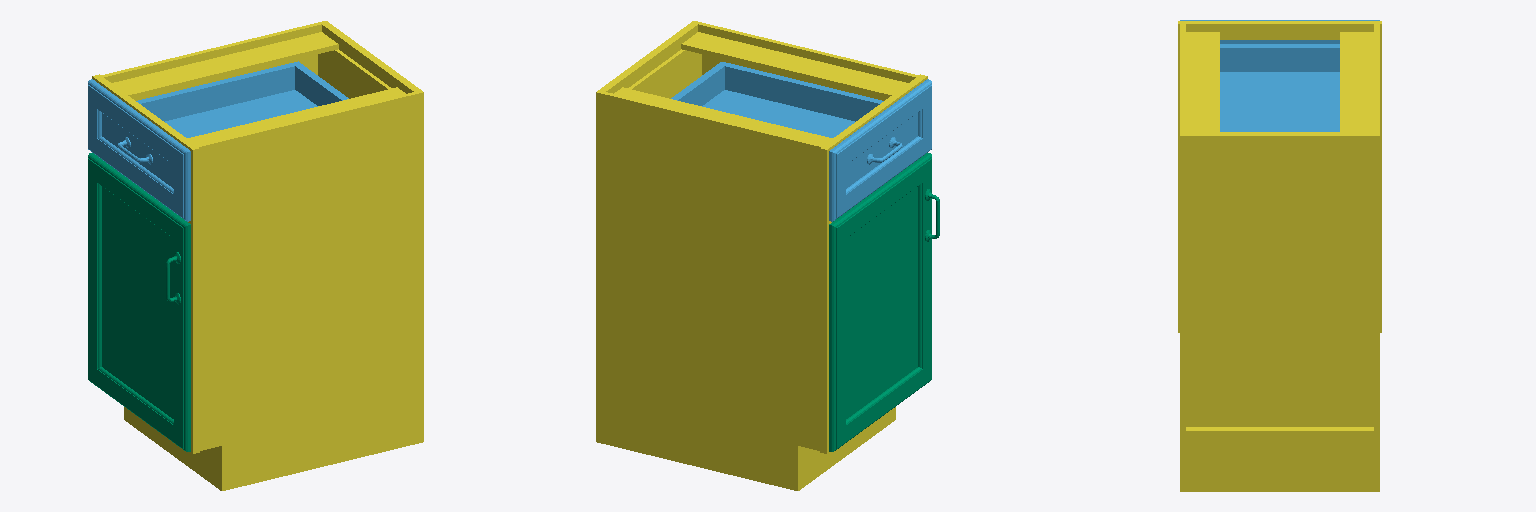
The robot description file, URDF, robot "partnet_15de6a77af2b4fccc59350d819542ec7":
<?xml version="1.0" ?>
<robot name="partnet_15de6a77af2b4fccc59350d819542ec7">
	<link name="base"/>
	<link name="link_0">
		<visual name="drawer_front-15">
			<origin xyz="0.001639828738790594 -0.49313240951971077 0.5140569806098938"/>
			<geometry>
				<mesh filename="textured_objs/original-43.obj"/>
			</geometry>
		</visual>
		<visual name="drawer_front-15">
			<origin xyz="0.001639828738790594 -0.49313240951971077 0.5140569806098938"/>
			<geometry>
				<mesh filename="textured_objs/original-26.obj"/>
			</geometry>
		</visual>
		<visual name="drawer_side-16">
			<origin xyz="0.001639828738790594 -0.49313240951971077 0.5140569806098938"/>
			<geometry>
				<mesh filename="textured_objs/original-30.obj"/>
			</geometry>
		</visual>
		<visual name="drawer_side-17">
			<origin xyz="0.001639828738790594 -0.49313240951971077 0.5140569806098938"/>
			<geometry>
				<mesh filename="textured_objs/original-25.obj"/>
			</geometry>
		</visual>
		<visual name="drawer_back-18">
			<origin xyz="0.001639828738790594 -0.49313240951971077 0.5140569806098938"/>
			<geometry>
				<mesh filename="textured_objs/original-31.obj"/>
			</geometry>
		</visual>
		<visual name="drawer_bottom-19">
			<origin xyz="0.001639828738790594 -0.49313240951971077 0.5140569806098938"/>
			<geometry>
				<mesh filename="textured_objs/original-28.obj"/>
			</geometry>
		</visual>
		<visual name="drawer_bottom-19">
			<origin xyz="0.001639828738790594 -0.49313240951971077 0.5140569806098938"/>
			<geometry>
				<mesh filename="textured_objs/original-29.obj"/>
			</geometry>
		</visual>
		<visual name="drawer_front-30">
			<origin xyz="0.001639828738790594 -0.49313240951971077 0.5140569806098938"/>
			<geometry>
				<mesh filename="textured_objs/original-41.obj"/>
			</geometry>
		</visual>
		<visual name="drawer_front-30">
			<origin xyz="0.001639828738790594 -0.49313240951971077 0.5140569806098938"/>
			<geometry>
				<mesh filename="textured_objs/original-37.obj"/>
			</geometry>
		</visual>
		<visual name="drawer_front-30">
			<origin xyz="0.001639828738790594 -0.49313240951971077 0.5140569806098938"/>
			<geometry>
				<mesh filename="textured_objs/original-35.obj"/>
			</geometry>
		</visual>
		<visual name="drawer_front-30">
			<origin xyz="0.001639828738790594 -0.49313240951971077 0.5140569806098938"/>
			<geometry>
				<mesh filename="textured_objs/original-38.obj"/>
			</geometry>
		</visual>
		<visual name="drawer_front-30">
			<origin xyz="0.001639828738790594 -0.49313240951971077 0.5140569806098938"/>
			<geometry>
				<mesh filename="textured_objs/original-40.obj"/>
			</geometry>
		</visual>
		<visual name="drawer_front-30">
			<origin xyz="0.001639828738790594 -0.49313240951971077 0.5140569806098938"/>
			<geometry>
				<mesh filename="textured_objs/original-39.obj"/>
			</geometry>
		</visual>
		<visual name="drawer_front-30">
			<origin xyz="0.001639828738790594 -0.49313240951971077 0.5140569806098938"/>
			<geometry>
				<mesh filename="textured_objs/original-44.obj"/>
			</geometry>
		</visual>
		<visual name="drawer_front-30">
			<origin xyz="0.001639828738790594 -0.49313240951971077 0.5140569806098938"/>
			<geometry>
				<mesh filename="textured_objs/original-36.obj"/>
			</geometry>
		</visual>
		<visual name="drawer_front-30">
			<origin xyz="0.001639828738790594 -0.49313240951971077 0.5140569806098938"/>
			<geometry>
				<mesh filename="textured_objs/original-34.obj"/>
			</geometry>
		</visual>
		<visual name="handle-6">
			<origin xyz="0.001639828738790594 -0.49313240951971077 0.5140569806098938"/>
			<geometry>
				<mesh filename="textured_objs/original-45.obj"/>
			</geometry>
		</visual>
		<visual name="other_leaf-21">
			<origin xyz="0.001639828738790594 -0.49313240951971077 0.5140569806098938"/>
			<geometry>
				<mesh filename="textured_objs/original-32.obj"/>
			</geometry>
		</visual>
		<collision>
			<origin xyz="0.001639828738790594 -0.49313240951971077 0.5140569806098938"/>
			<geometry>
				<mesh filename="textured_objs/original-43.obj"/>
			</geometry>
		</collision>
		<collision>
			<origin xyz="0.001639828738790594 -0.49313240951971077 0.5140569806098938"/>
			<geometry>
				<mesh filename="textured_objs/original-26.obj"/>
			</geometry>
		</collision>
		<collision>
			<origin xyz="0.001639828738790594 -0.49313240951971077 0.5140569806098938"/>
			<geometry>
				<mesh filename="textured_objs/original-30.obj"/>
			</geometry>
		</collision>
		<collision>
			<origin xyz="0.001639828738790594 -0.49313240951971077 0.5140569806098938"/>
			<geometry>
				<mesh filename="textured_objs/original-25.obj"/>
			</geometry>
		</collision>
		<collision>
			<origin xyz="0.001639828738790594 -0.49313240951971077 0.5140569806098938"/>
			<geometry>
				<mesh filename="textured_objs/original-31.obj"/>
			</geometry>
		</collision>
		<collision>
			<origin xyz="0.001639828738790594 -0.49313240951971077 0.5140569806098938"/>
			<geometry>
				<mesh filename="textured_objs/original-28.obj"/>
			</geometry>
		</collision>
		<collision>
			<origin xyz="0.001639828738790594 -0.49313240951971077 0.5140569806098938"/>
			<geometry>
				<mesh filename="textured_objs/original-29.obj"/>
			</geometry>
		</collision>
		<collision>
			<origin xyz="0.001639828738790594 -0.49313240951971077 0.5140569806098938"/>
			<geometry>
				<mesh filename="textured_objs/original-41.obj"/>
			</geometry>
		</collision>
		<collision>
			<origin xyz="0.001639828738790594 -0.49313240951971077 0.5140569806098938"/>
			<geometry>
				<mesh filename="textured_objs/original-37.obj"/>
			</geometry>
		</collision>
		<collision>
			<origin xyz="0.001639828738790594 -0.49313240951971077 0.5140569806098938"/>
			<geometry>
				<mesh filename="textured_objs/original-35.obj"/>
			</geometry>
		</collision>
		<collision>
			<origin xyz="0.001639828738790594 -0.49313240951971077 0.5140569806098938"/>
			<geometry>
				<mesh filename="textured_objs/original-38.obj"/>
			</geometry>
		</collision>
		<collision>
			<origin xyz="0.001639828738790594 -0.49313240951971077 0.5140569806098938"/>
			<geometry>
				<mesh filename="textured_objs/original-40.obj"/>
			</geometry>
		</collision>
		<collision>
			<origin xyz="0.001639828738790594 -0.49313240951971077 0.5140569806098938"/>
			<geometry>
				<mesh filename="textured_objs/original-39.obj"/>
			</geometry>
		</collision>
		<collision>
			<origin xyz="0.001639828738790594 -0.49313240951971077 0.5140569806098938"/>
			<geometry>
				<mesh filename="textured_objs/original-44.obj"/>
			</geometry>
		</collision>
		<collision>
			<origin xyz="0.001639828738790594 -0.49313240951971077 0.5140569806098938"/>
			<geometry>
				<mesh filename="textured_objs/original-36.obj"/>
			</geometry>
		</collision>
		<collision>
			<origin xyz="0.001639828738790594 -0.49313240951971077 0.5140569806098938"/>
			<geometry>
				<mesh filename="textured_objs/original-34.obj"/>
			</geometry>
		</collision>
		<collision>
			<origin xyz="0.001639828738790594 -0.49313240951971077 0.5140569806098938"/>
			<geometry>
				<mesh filename="textured_objs/original-45.obj"/>
			</geometry>
		</collision>
		<collision>
			<origin xyz="0.001639828738790594 -0.49313240951971077 0.5140569806098938"/>
			<geometry>
				<mesh filename="textured_objs/original-32.obj"/>
			</geometry>
		</collision>
	</link>
	<joint name="joint_0" type="prismatic">
		<origin xyz="-0.001639828738790594 0.49313240951971077 -0.5140569806098938"/>
		<axis xyz="0 0 1"/>
		<child link="link_0"/>
		<parent link="link_2"/>
		<limit lower="0" upper="0.7599999999999998"/>
	</joint>
	<link name="link_1">
		<visual name="cabinet_door_surface-27">
			<origin xyz="0.3723655951040667 0.6156229972839355 -0.4921912950706839"/>
			<geometry>
				<mesh filename="textured_objs/original-53.obj"/>
			</geometry>
		</visual>
		<visual name="cabinet_door_surface-27">
			<origin xyz="0.3723655951040667 0.6156229972839355 -0.4921912950706839"/>
			<geometry>
				<mesh filename="textured_objs/original-56.obj"/>
			</geometry>
		</visual>
		<visual name="cabinet_door_surface-27">
			<origin xyz="0.3723655951040667 0.6156229972839355 -0.4921912950706839"/>
			<geometry>
				<mesh filename="textured_objs/original-54.obj"/>
			</geometry>
		</visual>
		<visual name="cabinet_door_surface-27">
			<origin xyz="0.3723655951040667 0.6156229972839355 -0.4921912950706839"/>
			<geometry>
				<mesh filename="textured_objs/original-47.obj"/>
			</geometry>
		</visual>
		<visual name="cabinet_door_surface-27">
			<origin xyz="0.3723655951040667 0.6156229972839355 -0.4921912950706839"/>
			<geometry>
				<mesh filename="textured_objs/original-48.obj"/>
			</geometry>
		</visual>
		<visual name="cabinet_door_surface-27">
			<origin xyz="0.3723655951040667 0.6156229972839355 -0.4921912950706839"/>
			<geometry>
				<mesh filename="textured_objs/original-57.obj"/>
			</geometry>
		</visual>
		<visual name="cabinet_door_surface-27">
			<origin xyz="0.3723655951040667 0.6156229972839355 -0.4921912950706839"/>
			<geometry>
				<mesh filename="textured_objs/original-55.obj"/>
			</geometry>
		</visual>
		<visual name="cabinet_door_surface-27">
			<origin xyz="0.3723655951040667 0.6156229972839355 -0.4921912950706839"/>
			<geometry>
				<mesh filename="textured_objs/original-49.obj"/>
			</geometry>
		</visual>
		<visual name="cabinet_door_surface-27">
			<origin xyz="0.3723655951040667 0.6156229972839355 -0.4921912950706839"/>
			<geometry>
				<mesh filename="textured_objs/original-50.obj"/>
			</geometry>
		</visual>
		<visual name="cabinet_door_surface-27">
			<origin xyz="0.3723655951040667 0.6156229972839355 -0.4921912950706839"/>
			<geometry>
				<mesh filename="textured_objs/original-52.obj"/>
			</geometry>
		</visual>
		<visual name="handle-28">
			<origin xyz="0.3723655951040667 0.6156229972839355 -0.4921912950706839"/>
			<geometry>
				<mesh filename="textured_objs/original-58.obj"/>
			</geometry>
		</visual>
		<collision>
			<origin xyz="0.3723655951040667 0.6156229972839355 -0.4921912950706839"/>
			<geometry>
				<mesh filename="textured_objs/original-53.obj"/>
			</geometry>
		</collision>
		<collision>
			<origin xyz="0.3723655951040667 0.6156229972839355 -0.4921912950706839"/>
			<geometry>
				<mesh filename="textured_objs/original-56.obj"/>
			</geometry>
		</collision>
		<collision>
			<origin xyz="0.3723655951040667 0.6156229972839355 -0.4921912950706839"/>
			<geometry>
				<mesh filename="textured_objs/original-54.obj"/>
			</geometry>
		</collision>
		<collision>
			<origin xyz="0.3723655951040667 0.6156229972839355 -0.4921912950706839"/>
			<geometry>
				<mesh filename="textured_objs/original-47.obj"/>
			</geometry>
		</collision>
		<collision>
			<origin xyz="0.3723655951040667 0.6156229972839355 -0.4921912950706839"/>
			<geometry>
				<mesh filename="textured_objs/original-48.obj"/>
			</geometry>
		</collision>
		<collision>
			<origin xyz="0.3723655951040667 0.6156229972839355 -0.4921912950706839"/>
			<geometry>
				<mesh filename="textured_objs/original-57.obj"/>
			</geometry>
		</collision>
		<collision>
			<origin xyz="0.3723655951040667 0.6156229972839355 -0.4921912950706839"/>
			<geometry>
				<mesh filename="textured_objs/original-55.obj"/>
			</geometry>
		</collision>
		<collision>
			<origin xyz="0.3723655951040667 0.6156229972839355 -0.4921912950706839"/>
			<geometry>
				<mesh filename="textured_objs/original-49.obj"/>
			</geometry>
		</collision>
		<collision>
			<origin xyz="0.3723655951040667 0.6156229972839355 -0.4921912950706839"/>
			<geometry>
				<mesh filename="textured_objs/original-50.obj"/>
			</geometry>
		</collision>
		<collision>
			<origin xyz="0.3723655951040667 0.6156229972839355 -0.4921912950706839"/>
			<geometry>
				<mesh filename="textured_objs/original-52.obj"/>
			</geometry>
		</collision>
		<collision>
			<origin xyz="0.3723655951040667 0.6156229972839355 -0.4921912950706839"/>
			<geometry>
				<mesh filename="textured_objs/original-58.obj"/>
			</geometry>
		</collision>
	</link>
	<joint name="joint_1" type="revolute">
		<origin xyz="-0.3723655951040667 -0.6156229972839355 0.4921912950706839"/>
		<axis xyz="0 -1 0"/>
		<child link="link_1"/>
		<parent link="link_2"/>
		<limit lower="0.0" upper="1.5707963267948966"/>
	</joint>
	<link name="link_2">
		<visual name="shelf-29">
			<origin xyz="0 0 0"/>
			<geometry>
				<mesh filename="textured_objs/original-2.obj"/>
			</geometry>
		</visual>
		<visual name="vertical_side_panel-10">
			<origin xyz="0 0 0"/>
			<geometry>
				<mesh filename="textured_objs/original-15.obj"/>
			</geometry>
		</visual>
		<visual name="vertical_side_panel-10">
			<origin xyz="0 0 0"/>
			<geometry>
				<mesh filename="textured_objs/original-16.obj"/>
			</geometry>
		</visual>
		<visual name="vertical_side_panel-11">
			<origin xyz="0 0 0"/>
			<geometry>
				<mesh filename="textured_objs/original-12.obj"/>
			</geometry>
		</visual>
		<visual name="vertical_side_panel-11">
			<origin xyz="0 0 0"/>
			<geometry>
				<mesh filename="textured_objs/original-11.obj"/>
			</geometry>
		</visual>
		<visual name="back_panel-13">
			<origin xyz="0 0 0"/>
			<geometry>
				<mesh filename="textured_objs/original-6.obj"/>
			</geometry>
		</visual>
		<visual name="bottom_panel-14">
			<origin xyz="0 0 0"/>
			<geometry>
				<mesh filename="textured_objs/original-3.obj"/>
			</geometry>
		</visual>
		<visual name="bottom_panel-14">
			<origin xyz="0 0 0"/>
			<geometry>
				<mesh filename="textured_objs/original-9.obj"/>
			</geometry>
		</visual>
		<visual name="frame_horizontal_bar-33">
			<origin xyz="0 0 0"/>
			<geometry>
				<mesh filename="textured_objs/original-5.obj"/>
			</geometry>
		</visual>
		<visual name="frame_horizontal_bar-34">
			<origin xyz="0 0 0"/>
			<geometry>
				<mesh filename="textured_objs/original-18.obj"/>
			</geometry>
		</visual>
		<visual name="frame_horizontal_bar-35">
			<origin xyz="0 0 0"/>
			<geometry>
				<mesh filename="textured_objs/original-7.obj"/>
			</geometry>
		</visual>
		<visual name="frame_vertical_bar-36">
			<origin xyz="0 0 0"/>
			<geometry>
				<mesh filename="textured_objs/original-4.obj"/>
			</geometry>
		</visual>
		<visual name="frame_vertical_bar-37">
			<origin xyz="0 0 0"/>
			<geometry>
				<mesh filename="textured_objs/original-8.obj"/>
			</geometry>
		</visual>
		<visual name="frame_horizontal_bar-38">
			<origin xyz="0 0 0"/>
			<geometry>
				<mesh filename="textured_objs/original-22.obj"/>
			</geometry>
		</visual>
		<visual name="frame_horizontal_bar-39">
			<origin xyz="0 0 0"/>
			<geometry>
				<mesh filename="textured_objs/original-21.obj"/>
			</geometry>
		</visual>
		<visual name="other_leaf-41">
			<origin xyz="0 0 0"/>
			<geometry>
				<mesh filename="textured_objs/original-59.obj"/>
			</geometry>
		</visual>
		<visual name="base_side_panel-23">
			<origin xyz="0 0 0"/>
			<geometry>
				<mesh filename="textured_objs/original-17.obj"/>
			</geometry>
		</visual>
		<visual name="base_side_panel-24">
			<origin xyz="0 0 0"/>
			<geometry>
				<mesh filename="textured_objs/original-19.obj"/>
			</geometry>
		</visual>
		<visual name="base_side_panel-25">
			<origin xyz="0 0 0"/>
			<geometry>
				<mesh filename="textured_objs/original-13.obj"/>
			</geometry>
		</visual>
		<visual name="base_side_panel-26">
			<origin xyz="0 0 0"/>
			<geometry>
				<mesh filename="textured_objs/original-20.obj"/>
			</geometry>
		</visual>
		<collision>
			<origin xyz="0 0 0"/>
			<geometry>
				<mesh filename="textured_objs/original-2.obj"/>
			</geometry>
		</collision>
		<collision>
			<origin xyz="0 0 0"/>
			<geometry>
				<mesh filename="textured_objs/original-15.obj"/>
			</geometry>
		</collision>
		<collision>
			<origin xyz="0 0 0"/>
			<geometry>
				<mesh filename="textured_objs/original-16.obj"/>
			</geometry>
		</collision>
		<collision>
			<origin xyz="0 0 0"/>
			<geometry>
				<mesh filename="textured_objs/original-12.obj"/>
			</geometry>
		</collision>
		<collision>
			<origin xyz="0 0 0"/>
			<geometry>
				<mesh filename="textured_objs/original-11.obj"/>
			</geometry>
		</collision>
		<collision>
			<origin xyz="0 0 0"/>
			<geometry>
				<mesh filename="textured_objs/original-6.obj"/>
			</geometry>
		</collision>
		<collision>
			<origin xyz="0 0 0"/>
			<geometry>
				<mesh filename="textured_objs/original-3.obj"/>
			</geometry>
		</collision>
		<collision>
			<origin xyz="0 0 0"/>
			<geometry>
				<mesh filename="textured_objs/original-9.obj"/>
			</geometry>
		</collision>
		<collision>
			<origin xyz="0 0 0"/>
			<geometry>
				<mesh filename="textured_objs/original-5.obj"/>
			</geometry>
		</collision>
		<collision>
			<origin xyz="0 0 0"/>
			<geometry>
				<mesh filename="textured_objs/original-18.obj"/>
			</geometry>
		</collision>
		<collision>
			<origin xyz="0 0 0"/>
			<geometry>
				<mesh filename="textured_objs/original-7.obj"/>
			</geometry>
		</collision>
		<collision>
			<origin xyz="0 0 0"/>
			<geometry>
				<mesh filename="textured_objs/original-4.obj"/>
			</geometry>
		</collision>
		<collision>
			<origin xyz="0 0 0"/>
			<geometry>
				<mesh filename="textured_objs/original-8.obj"/>
			</geometry>
		</collision>
		<collision>
			<origin xyz="0 0 0"/>
			<geometry>
				<mesh filename="textured_objs/original-22.obj"/>
			</geometry>
		</collision>
		<collision>
			<origin xyz="0 0 0"/>
			<geometry>
				<mesh filename="textured_objs/original-21.obj"/>
			</geometry>
		</collision>
		<collision>
			<origin xyz="0 0 0"/>
			<geometry>
				<mesh filename="textured_objs/original-59.obj"/>
			</geometry>
		</collision>
		<collision>
			<origin xyz="0 0 0"/>
			<geometry>
				<mesh filename="textured_objs/original-17.obj"/>
			</geometry>
		</collision>
		<collision>
			<origin xyz="0 0 0"/>
			<geometry>
				<mesh filename="textured_objs/original-19.obj"/>
			</geometry>
		</collision>
		<collision>
			<origin xyz="0 0 0"/>
			<geometry>
				<mesh filename="textured_objs/original-13.obj"/>
			</geometry>
		</collision>
		<collision>
			<origin xyz="0 0 0"/>
			<geometry>
				<mesh filename="textured_objs/original-20.obj"/>
			</geometry>
		</collision>
	</link>
	<joint name="joint_2" type="fixed">
		<origin rpy="1.570796326794897 0 -1.570796326794897" xyz="0 0 0"/>
		<child link="link_2"/>
		<parent link="base"/>
	</joint>
</robot>

--- Render facts (derived) ---
3 views of the same robot in one strip: view 1: azimuth 30°, elevation 25°; view 2: azimuth 150°, elevation 25°; view 3: azimuth 270°, elevation 25° (orthographic).
Robot: partnet_15de6a77af2b4fccc59350d819542ec7 — 4 links, 3 joints (1 revolute, 1 prismatic, 1 fixed); root link base; default pose: every joint at zero.
Links seen in each view (by area): view 1: link_2, link_1, link_0; view 2: link_2, link_1, link_0; view 3: link_2, link_0.
Boxes of the visible links, x1=… form: link_2: x1=92, y1=21, x2=423, y2=490; link_1: x1=88, y1=153, x2=190, y2=451; link_0: x1=88, y1=61, x2=348, y2=221; link_2: x1=596, y1=21, x2=927, y2=490; link_1: x1=829, y1=153, x2=939, y2=451; link_0: x1=671, y1=62, x2=931, y2=221; link_2: x1=1178, y1=21, x2=1381, y2=491; link_0: x1=1180, y1=20, x2=1379, y2=131.
Size in the robot's own frame: 1.13 by 0.7837 by 1.5 metres.
Meshes: 49 distinct files referenced, 49 mesh visuals loaded (49 OBJ).